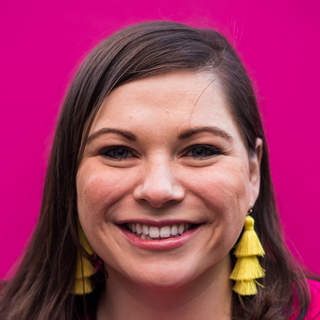eye: (93, 140, 143, 166), (174, 141, 228, 163)
